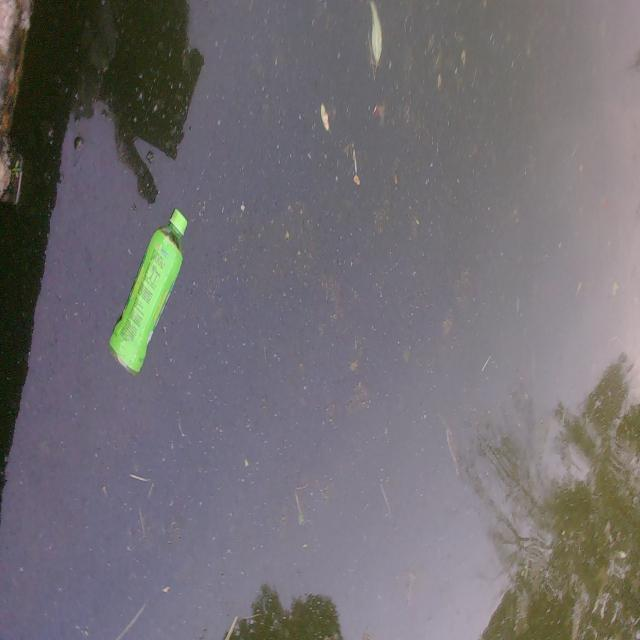bottle: (101, 199, 196, 387)
